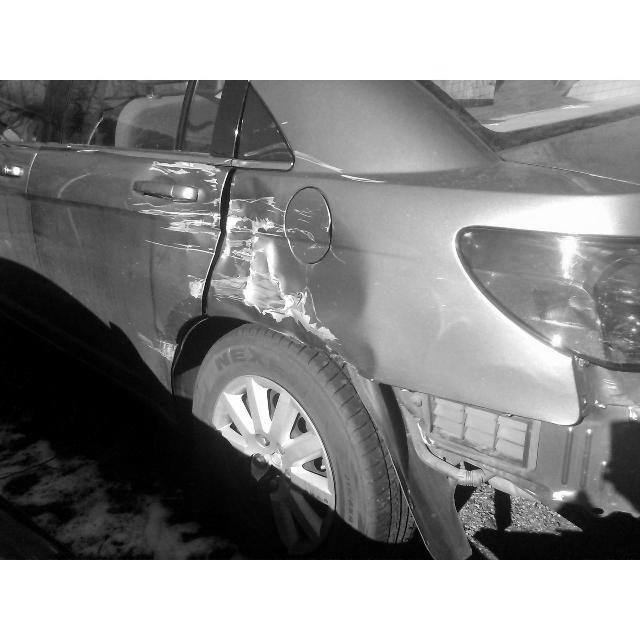doorouter-dent: (52, 144, 224, 346)
quaterpanel-dent: (222, 160, 466, 328)
